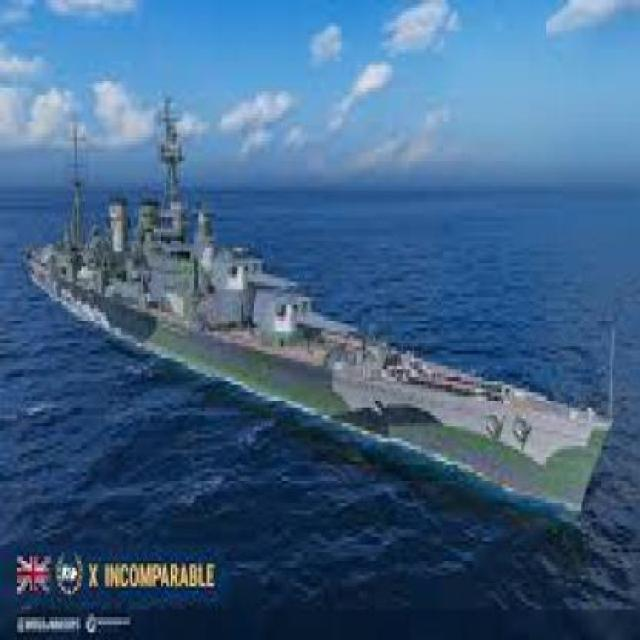warship2: (23, 81, 624, 530)
